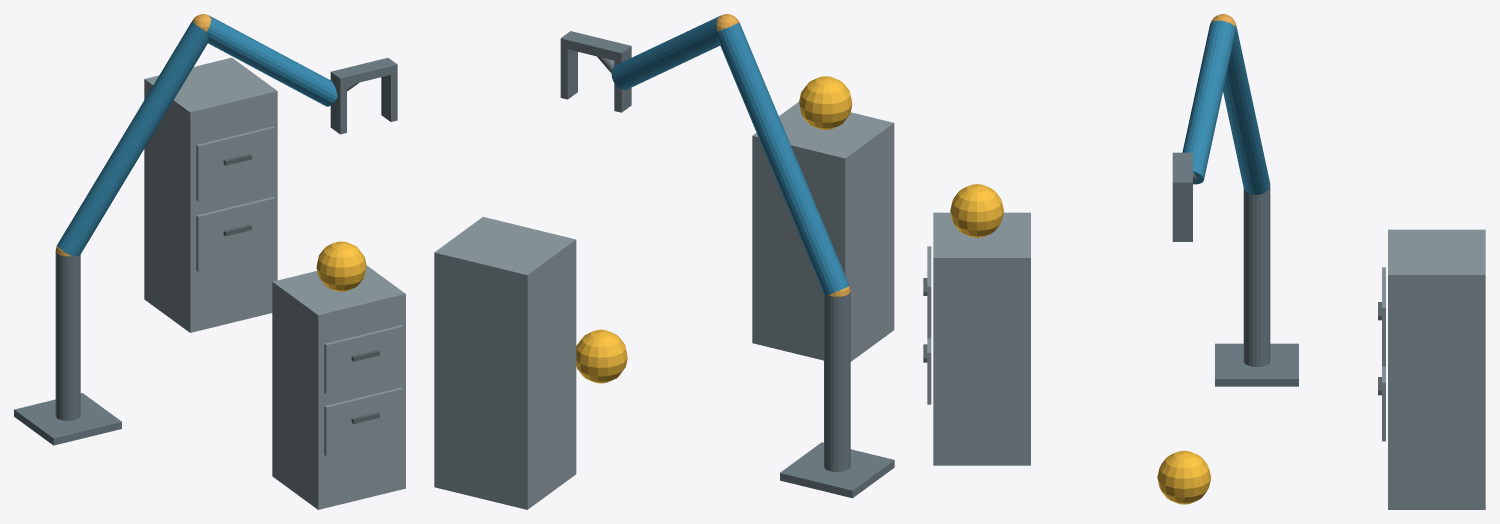
3 views of the same model, side by side, from view 1: azimuth 30°, elevation 25°; view 2: azimuth 150°, elevation 25°; view 3: azimuth 270°, elevation 25° (orthographic). The views are drawn at different scales.
Parts seen in each view (by area): view 1: cabinet_2 body, cabinet_1 body, moving link 1, cabinet_2 drawer front.001, cabinet_2 drawer front, fixed post, cabinet_1 drawer front.001, cabinet_1 drawer front, moving link 2, pedestal, released ball_1, gripper bridge (+2 smaller); view 2: cabinet_2 body, cabinet_1 body, moving link 1, fixed post, pedestal, moving link 2, released ball_1, ball ball_2, gripper bridge, gripper finger 1; view 3: cabinet_2 body, cabinet_1 body, fixed post, moving link 2, moving link 1, pedestal, released ball_1, ball ball_2, gripper finger 1, gripper bridge.
Part boxes in pixels (x1=…): cabinet_2 body: x1=144, y1=57, x2=277, y2=332; cabinet_1 body: x1=272, y1=265, x2=405, y2=509; moving link 1: x1=57, y1=20, x2=208, y2=256; cabinet_2 drawer front.001: x1=196, y1=126, x2=275, y2=201; cabinet_2 drawer front: x1=196, y1=197, x2=275, y2=271; fixed post: x1=55, y1=252, x2=80, y2=420; cabinet_1 drawer front.001: x1=324, y1=325, x2=403, y2=393; cabinet_1 drawer front: x1=324, y1=387, x2=403, y2=455; moving link 2: x1=207, y1=15, x2=337, y2=106; pedestal: x1=14, y1=393, x2=121, y2=445; released ball_1: x1=316, y1=241, x2=366, y2=291; gripper bridge: x1=330, y1=58, x2=397, y2=87; cabinet_2 body: x1=434, y1=217, x2=576, y2=509; cabinet_1 body: x1=752, y1=102, x2=894, y2=361; moving link 1: x1=717, y1=22, x2=849, y2=295; fixed post: x1=824, y1=290, x2=850, y2=471; pedestal: x1=780, y1=442, x2=894, y2=498; moving link 2: x1=611, y1=15, x2=721, y2=89; released ball_1: x1=799, y1=76, x2=852, y2=129; ball ball_2: x1=576, y1=329, x2=627, y2=383; gripper bridge: x1=560, y1=31, x2=631, y2=62; gripper finger 1: x1=560, y1=47, x2=577, y2=99; cabinet_2 body: x1=1388, y1=229, x2=1485, y2=509; cabinet_1 body: x1=933, y1=212, x2=1030, y2=465; fixed post: x1=1243, y1=187, x2=1270, y2=366; moving link 2: x1=1182, y1=20, x2=1235, y2=184; moving link 1: x1=1223, y1=25, x2=1270, y2=194; pedestal: x1=1215, y1=343, x2=1298, y2=386; released ball_1: x1=950, y1=184, x2=1003, y2=237; ball ball_2: x1=1157, y1=450, x2=1211, y2=504; gripper finger 1: x1=1172, y1=191, x2=1192, y2=241; gripper bridge: x1=1172, y1=152, x2=1192, y2=191.
Bounding box in the file's own units: 1.18 × 1.36 × 1.67.
